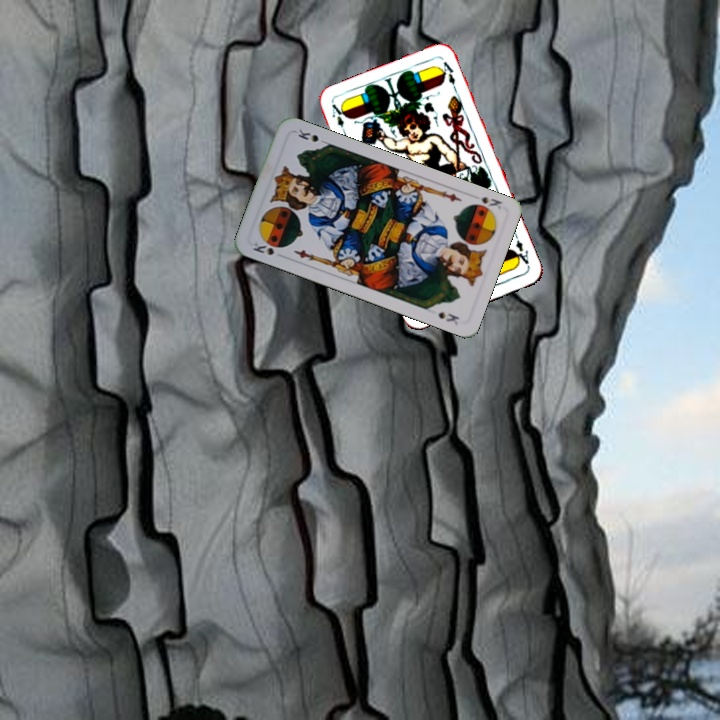EA: (328, 100, 349, 139), (509, 236, 532, 269)
SK: (249, 236, 284, 258), (477, 192, 505, 211)
